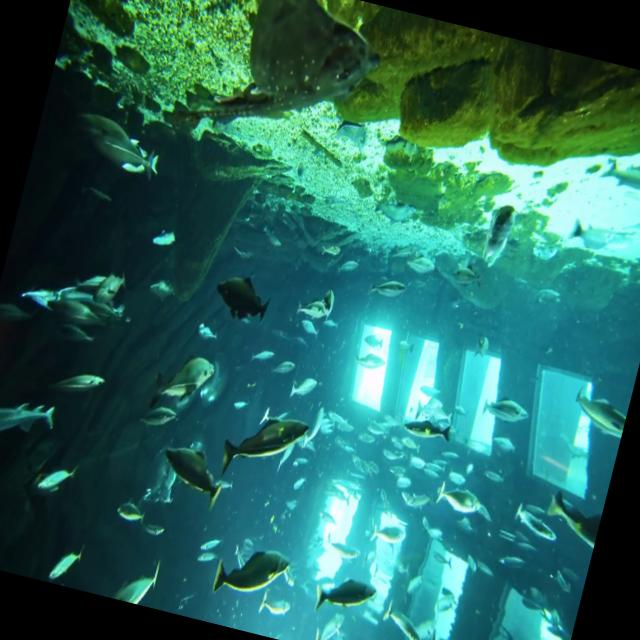fish: (209, 394, 316, 498), (204, 530, 297, 620), (66, 108, 164, 188), (140, 434, 233, 517), (532, 470, 608, 554), (201, 256, 279, 332), (143, 342, 222, 414), (33, 293, 122, 352), (0, 377, 62, 461), (308, 562, 388, 626), (564, 374, 632, 448), (390, 410, 461, 461), (286, 278, 344, 340), (50, 358, 110, 413), (23, 454, 80, 511), (110, 552, 163, 608), (36, 536, 89, 590), (375, 597, 437, 640), (478, 386, 533, 434), (139, 268, 184, 316), (128, 408, 174, 448), (112, 492, 152, 534)
